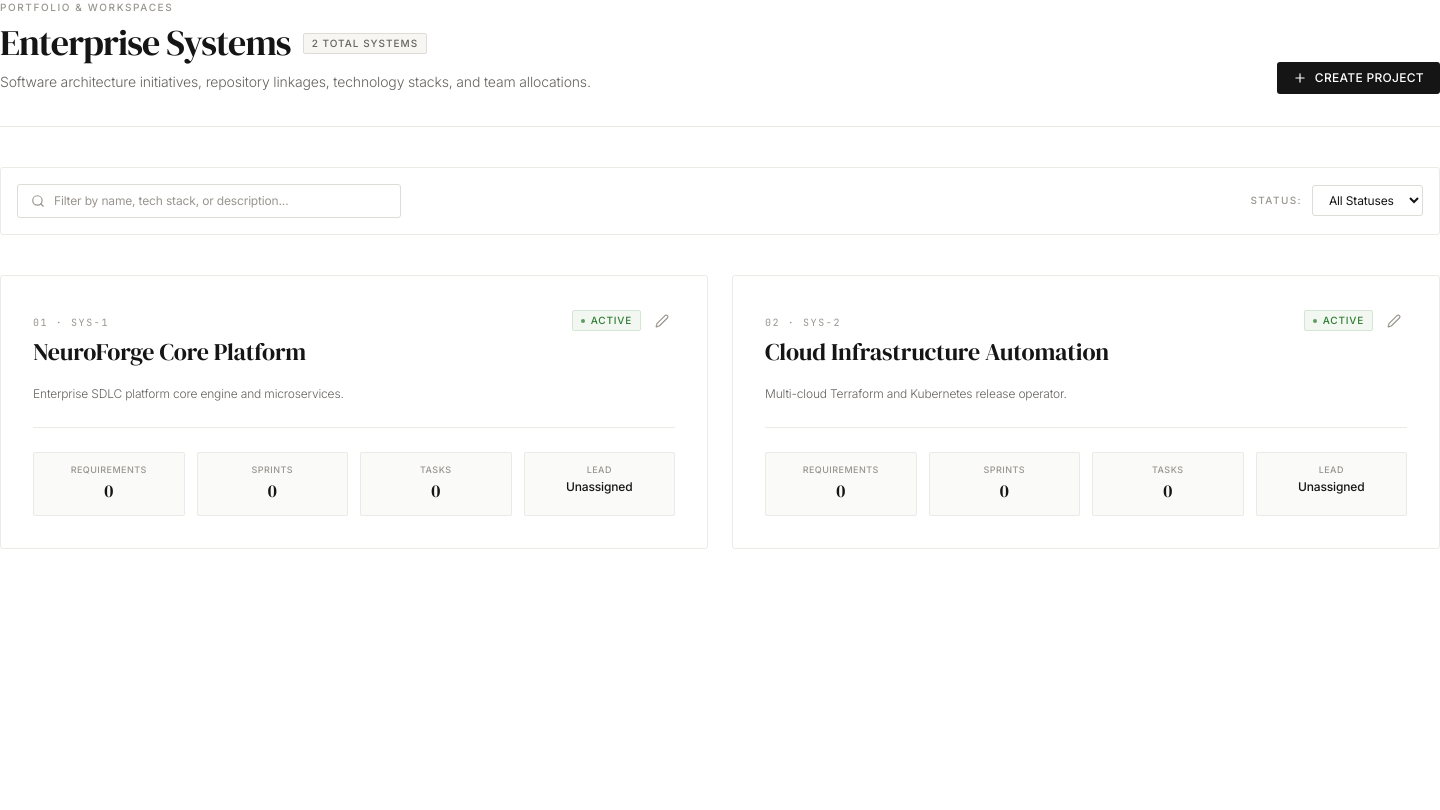
it: Area E: Project Management › opens create project modal when Create Project button is clicked
Expected: the heading "NeuroForge Core Platform" is shown, [33,336,306,368]
Click the button "Create Project". click: (1358, 78)
box: [1277,62,1439,94]
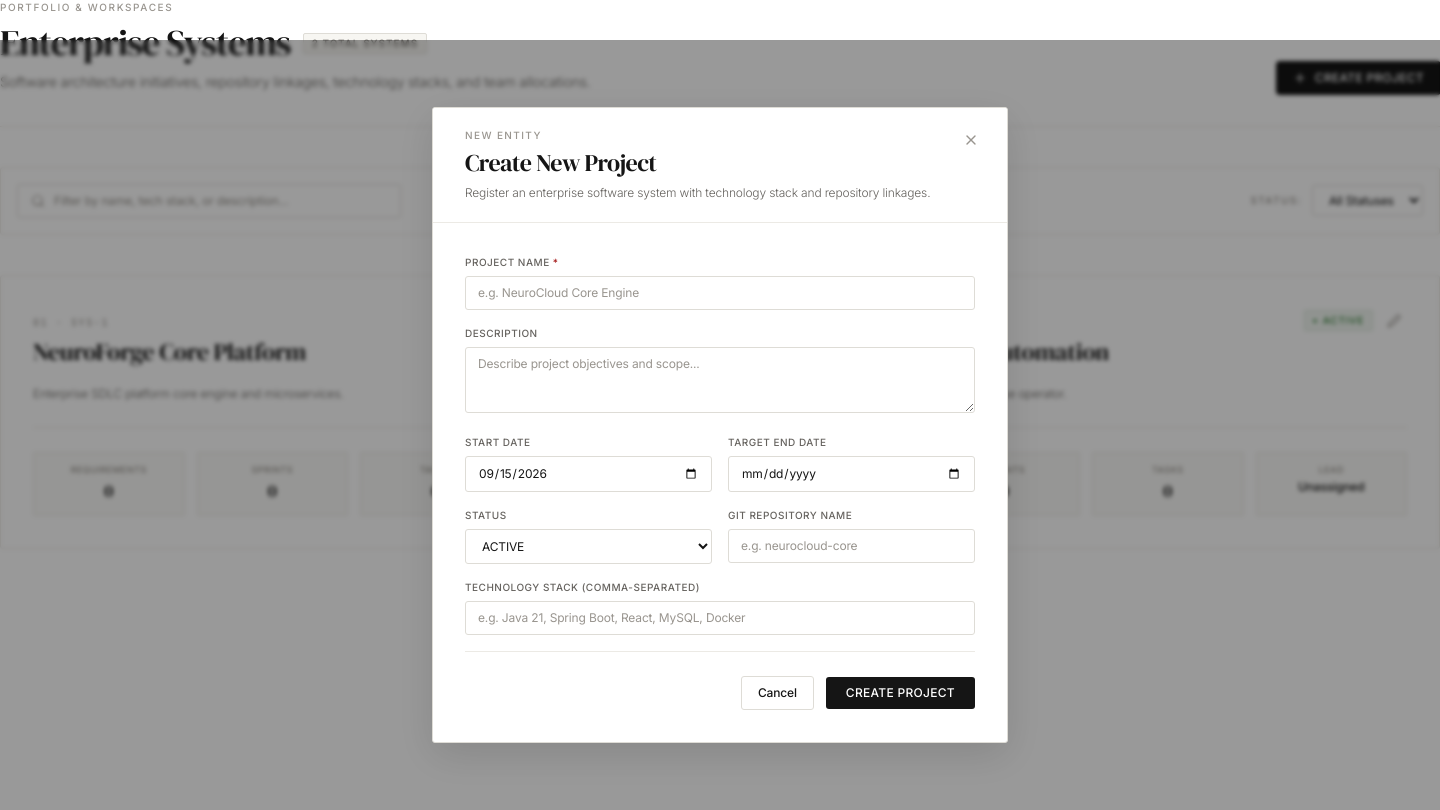
Expected: the heading "Create New Project" is shown, [465,146,656,179]
Expected: the field with placeholder "e.g. NeuroCloud Core Engine" is shown, [465,276,975,310]
